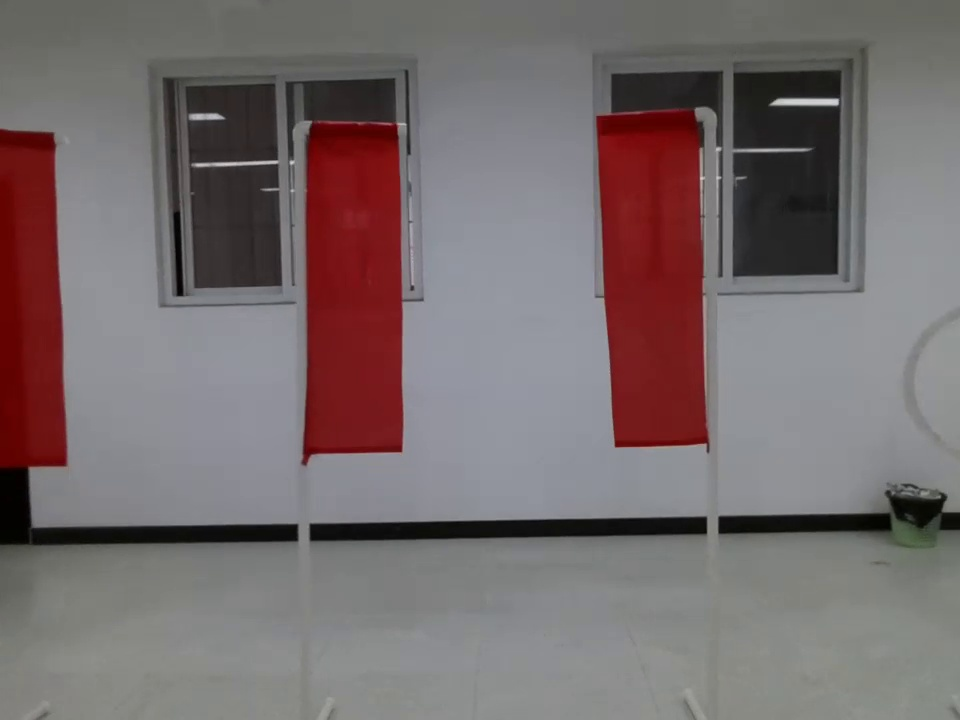qi: (593, 107, 726, 497), (286, 118, 411, 482), (1, 127, 69, 486)
quan: (898, 300, 960, 458)
